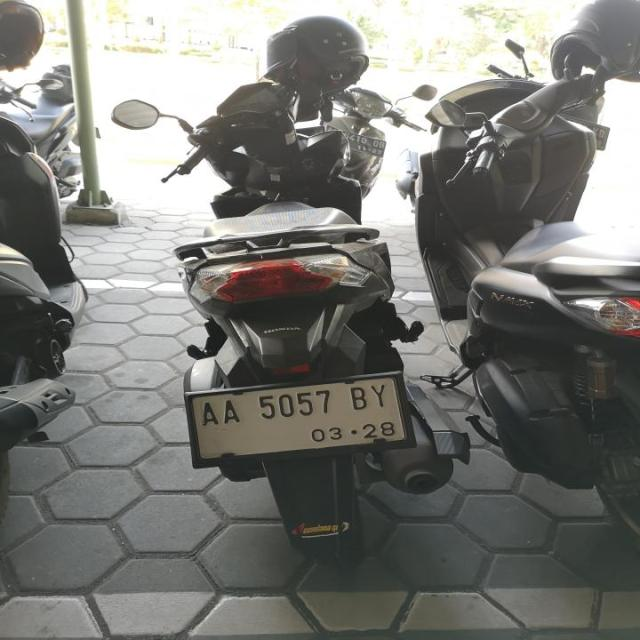License Plate: (188, 372, 408, 464)
